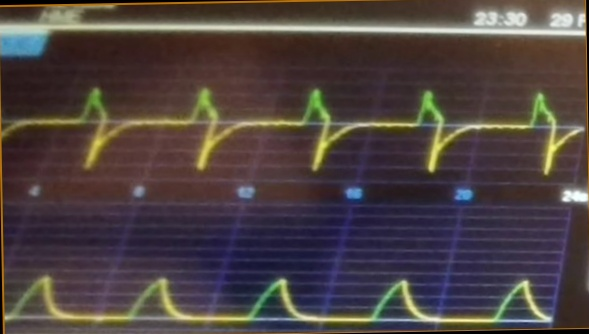Accumulation Flow: (5, 79, 581, 183)
Volume: (7, 257, 555, 329)
